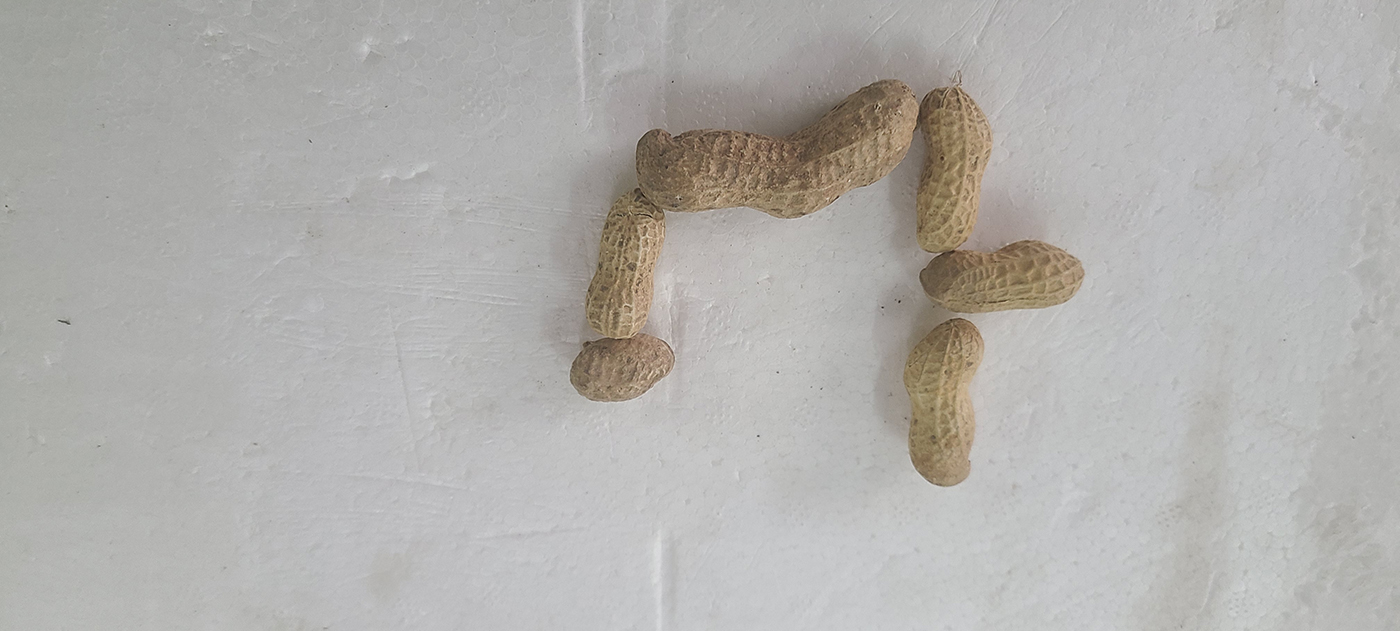h: (634, 80, 917, 217), (901, 320, 984, 484), (915, 87, 991, 252), (919, 239, 1086, 314), (584, 189, 664, 339)
l: (569, 334, 676, 404)
